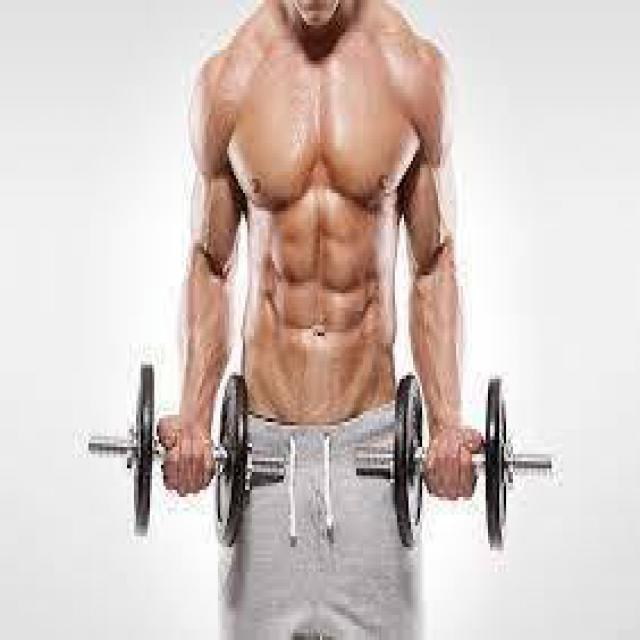Gym Weights: (347, 357, 554, 583), (82, 347, 288, 550)
